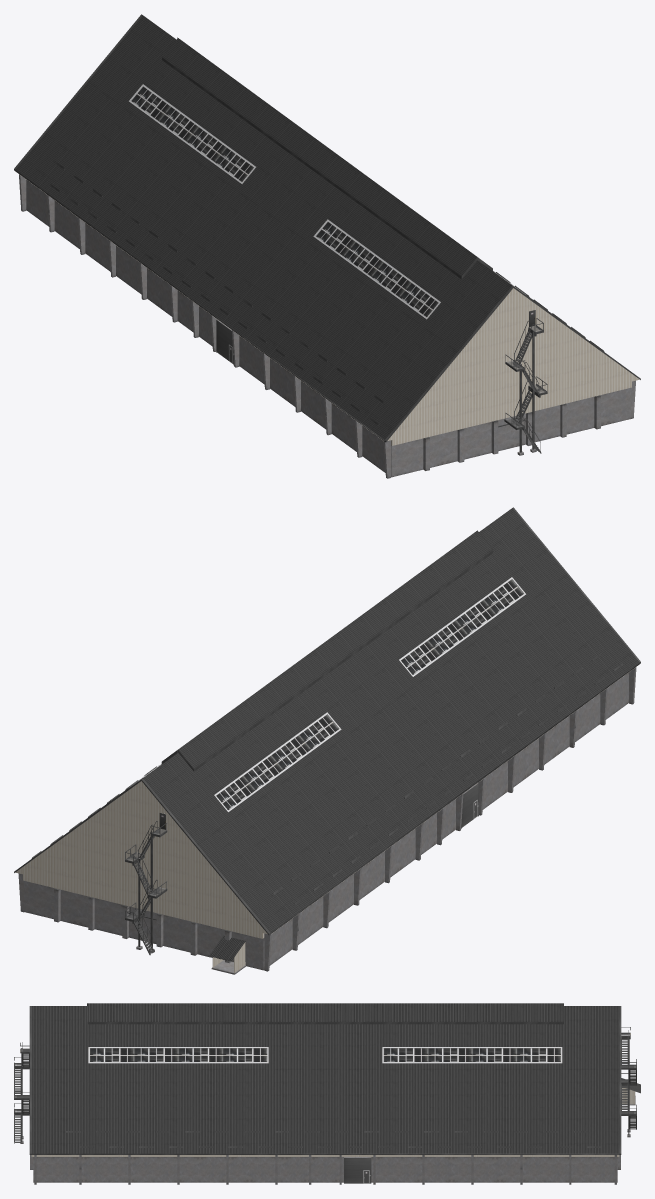
The model's file is plant-building43.glb.
3 renders of one model, top to bottom at view 1: azimuth 30°, elevation 25°; view 2: azimuth 150°, elevation 25°; view 3: azimuth 270°, elevation 25°, orthographic. The views are drawn at different scales.
Parts seen in each view (by area): view 1: Object8935569; view 2: Object8935569; view 3: Object8935569.
Boxes of the visible parts, x1,y1,x2,y2 form: Object8935569: (14,14,640,478); Object8935569: (14,507,640,974); Object8935569: (14,1003,640,1184).
Bounding box in the file's own units: 33.96 × 21.43 × 90.91.
1 material, 1 textured.
